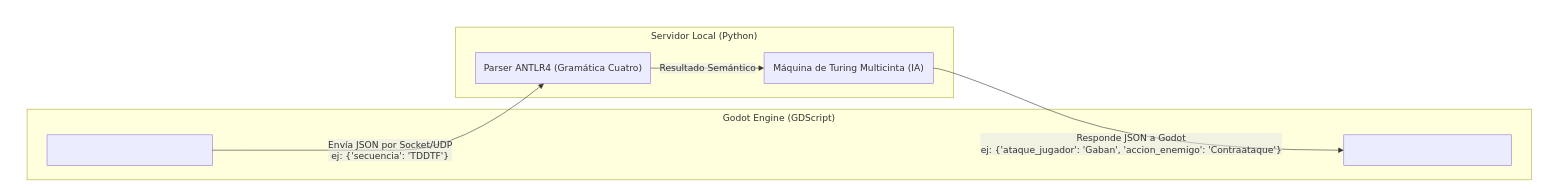
The diagram is 1541 pixels wide and 190 high, and some of its shapes have lost their labels. The shapes that lost their labels are listed below. From the top down, each one's centre as x and y in pixels, then its label:
the point at 129,150: Captura de Teclas (T, S, D, M, F)
the point at 1427,150: Mapa Isométrico, Sprites y Audio
